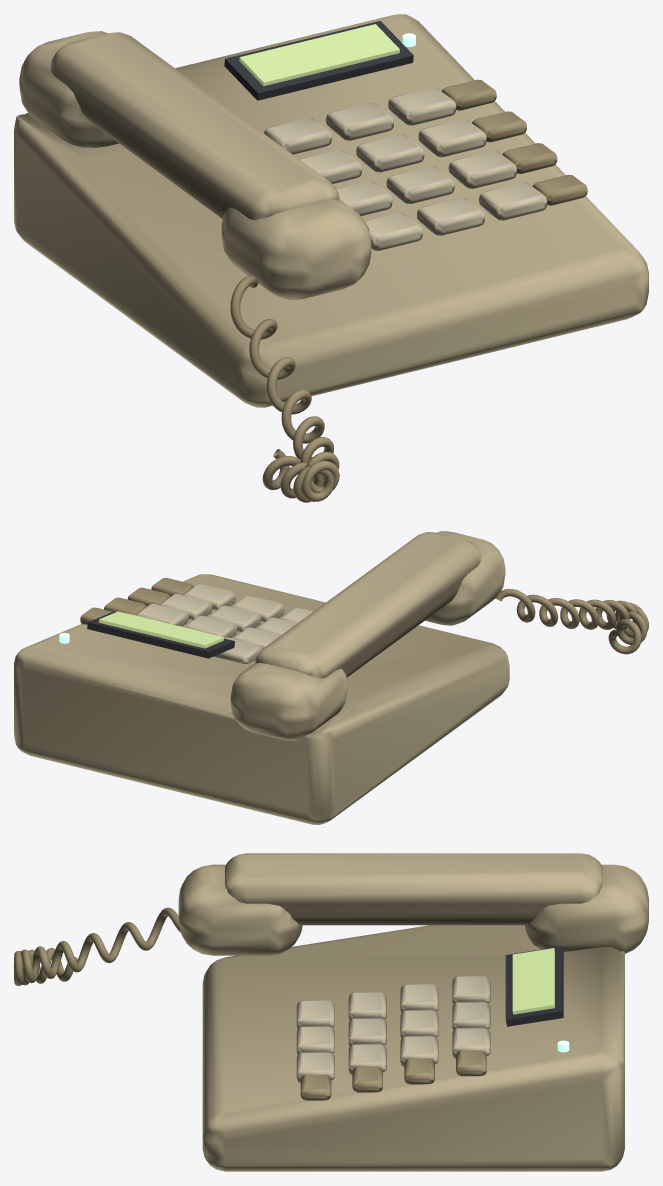
File: phone.glb
3 renders of one model, top to bottom at view 1: azimuth 30°, elevation 25°; view 2: azimuth 150°, elevation 25°; view 3: azimuth 270°, elevation 25°, orthographic. The views are drawn at different scales.
Parts seen in each view (by area): view 1: Telefono; view 2: Telefono; view 3: Telefono.
Part boxes in pixels (bbox=[...]): Telefono: bbox=[14, 14, 648, 502]; Telefono: bbox=[14, 531, 648, 824]; Telefono: bbox=[14, 853, 648, 1171].
Size of the model in its own units: 0.2475 by 0.1 by 0.3307.
